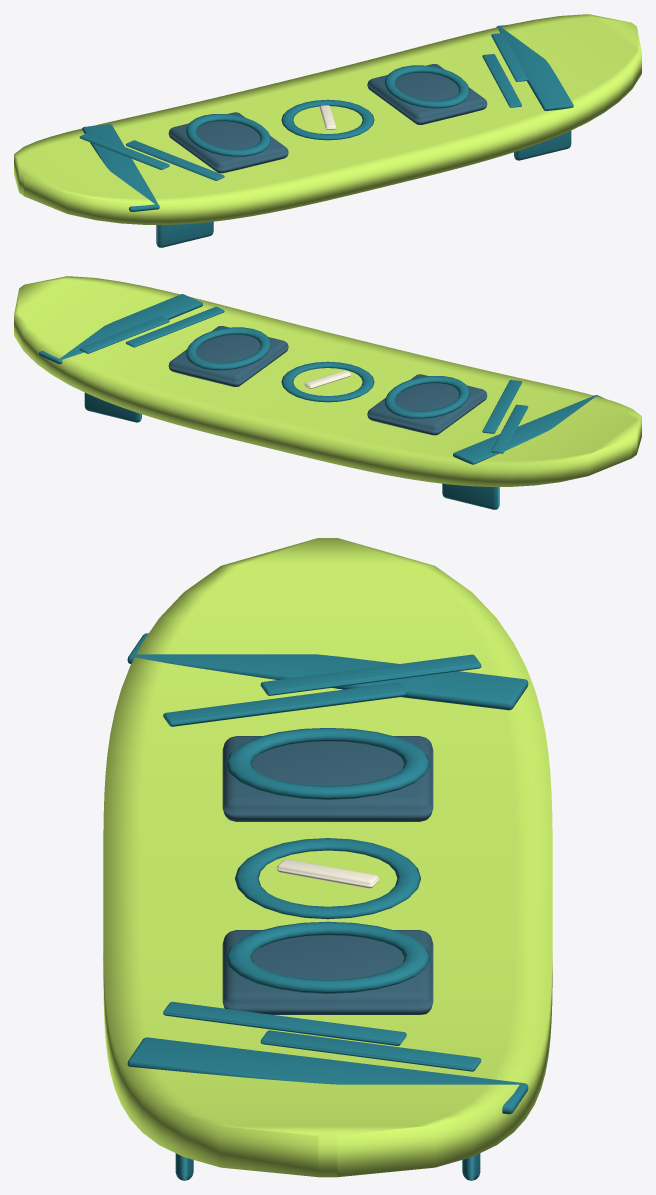
The model's file is board-daybreak.glb.
3 views of the same model, one above another, from view 1: azimuth 30°, elevation 25°; view 2: azimuth 150°, elevation 25°; view 3: azimuth 270°, elevation 25° (orthographic). The views are drawn at different scales.
Parts seen in each view (by area): view 1: Board_daybreak; view 2: Board_daybreak; view 3: Board_daybreak.
Part boxes in pixels (<box>): Board_daybreak: <box>14,14,641,247</box>; Board_daybreak: <box>14,276,641,509</box>; Board_daybreak: <box>103,538,552,1180</box>.
Size of the model in its own units: 2.96 by 0.335 by 0.94.
